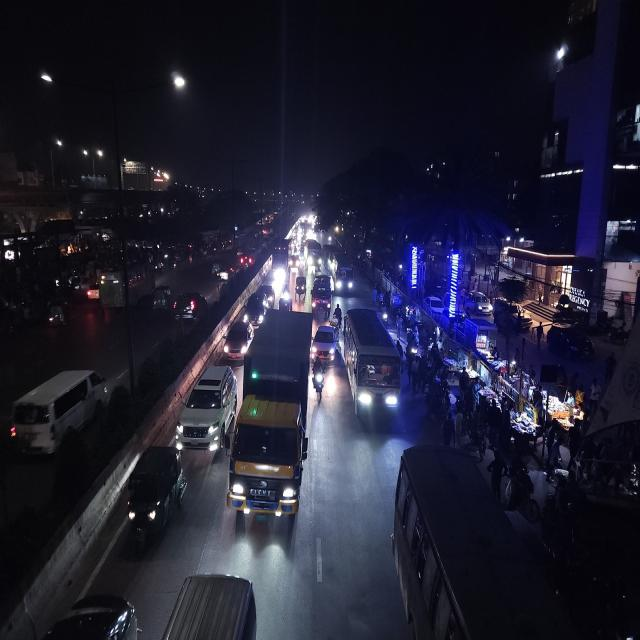bus: (392, 444, 562, 639), (342, 304, 404, 434), (102, 267, 153, 304), (328, 246, 354, 295), (304, 236, 323, 275)
car: (5, 364, 108, 457), (122, 442, 188, 551), (173, 363, 237, 452), (42, 588, 143, 638), (221, 318, 253, 360), (172, 290, 208, 326), (313, 320, 337, 364), (460, 287, 492, 318), (242, 290, 266, 327), (423, 292, 447, 318), (215, 263, 233, 283), (86, 283, 102, 302)
cng: (44, 294, 70, 330), (150, 282, 172, 312), (294, 272, 308, 308)
motorcycle: (310, 358, 326, 403), (333, 302, 343, 330)
pedestrian: (440, 411, 456, 451)
truck: (227, 308, 312, 527), (311, 272, 332, 323), (272, 238, 290, 286)
